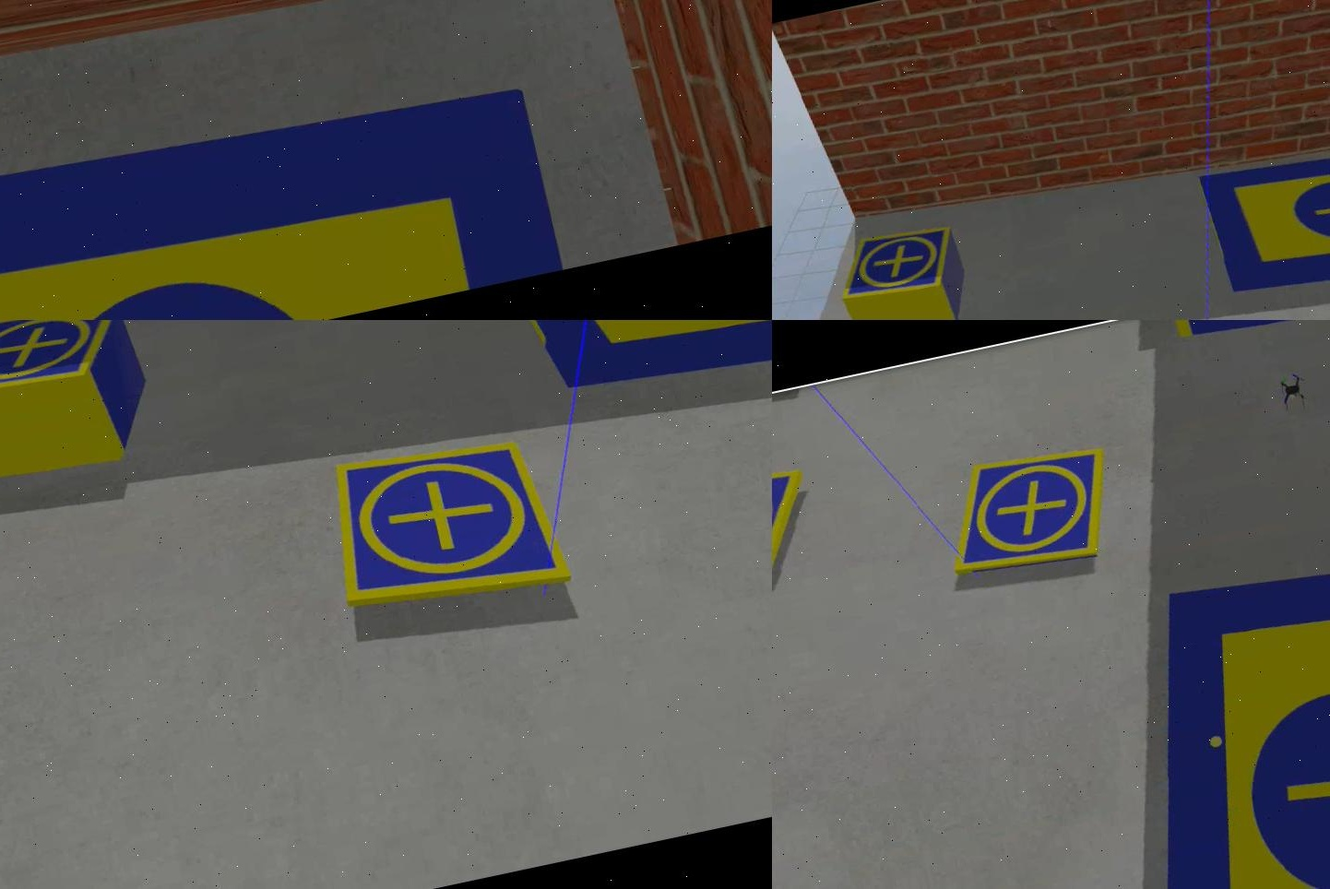large_base: (0, 60, 564, 321), (1059, 527, 1328, 889), (1199, 109, 1328, 321), (490, 321, 771, 406)
small_base: (317, 424, 564, 627), (931, 441, 1122, 587), (826, 219, 961, 308), (0, 321, 130, 409), (771, 461, 815, 605)
